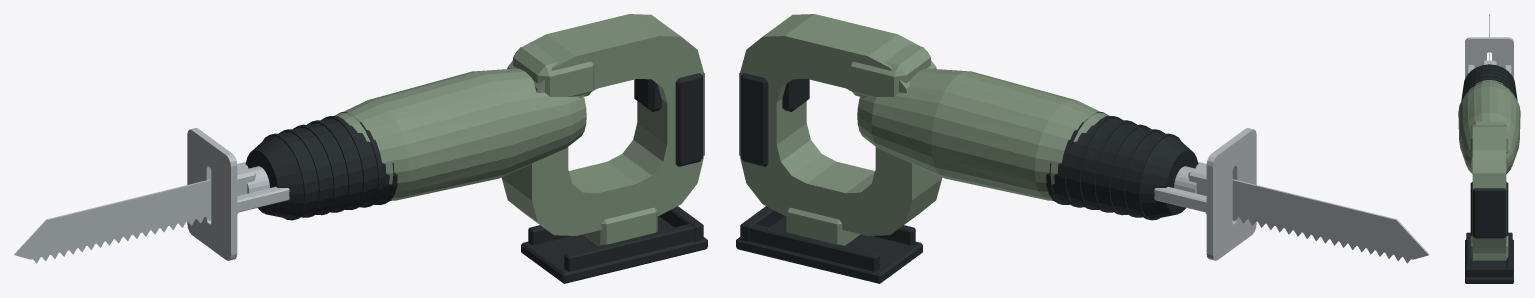
Rendered from full.fbx.
The picture shows the model from 3 angles, left to right: view 1: azimuth 30°, elevation 25°; view 2: azimuth 150°, elevation 25°; view 3: azimuth 270°, elevation 25°; orthographic projection. The views are drawn at different scales.
Parts seen in each view (by area): view 1: Rear open D handle, Long motor housing, Front wrapped grip, Long static axial toothed blade, Small upright shoe with slot, Battery slide bottom plate, Rear dark hand grip, Upper rear shoulder, Battery slide rail -0.024, Battery mount neck, Shoe mounting stem -0.022, Inner trigger (+8 smaller); view 2: Rear open D handle, Long motor housing, Front wrapped grip, Long static axial toothed blade, Small upright shoe with slot, Battery slide bottom plate, Rear dark hand grip, Upper rear shoulder, Battery slide rail 0.024, Battery mount neck, Shoe mounting stem 0.022, Inner trigger (+8 smaller); view 3: Long motor housing, Rear open D handle, Rear dark hand grip, Small upright shoe with slot, Battery slide bottom plate, Battery slide rear stop, Front wrapped grip, Battery mount neck, Upper rear shoulder, Battery slide rail -0.024, Battery slide rail 0.024, Front grip rib 3 (+6 smaller).
Boxes of the visible parts, box(x1,y1,x2,y2) form: Rear open D handle: box(501, 14, 703, 235); Long motor housing: box(335, 68, 586, 200); Front wrapped grip: box(245, 115, 391, 218); Long static axial toothed blade: box(14, 167, 260, 263); Small upright shoe with slot: box(187, 128, 237, 260); Battery slide bottom plate: box(521, 216, 707, 283); Rear dark hand grip: box(675, 72, 704, 166); Upper rear shoulder: box(513, 44, 594, 96); Battery slide rail -0.024: box(564, 223, 694, 271); Battery mount neck: box(583, 207, 657, 245); Shoe mounting stem -0.022: box(237, 186, 289, 212); Inner trigger: box(634, 79, 661, 111); Rear open D handle: box(740, 14, 942, 235); Long motor housing: box(857, 68, 1108, 200); Front wrapped grip: box(1052, 115, 1198, 218); Long static axial toothed blade: box(1183, 167, 1429, 263); Small upright shoe with slot: box(1206, 128, 1256, 260); Battery slide bottom plate: box(736, 216, 922, 283); Rear dark hand grip: box(739, 72, 768, 166); Upper rear shoulder: box(849, 44, 930, 96); Battery slide rail 0.024: box(749, 223, 879, 271); Battery mount neck: box(786, 207, 860, 245); Shoe mounting stem 0.022: box(1154, 186, 1206, 212); Inner trigger: box(782, 79, 809, 111); Long motor housing: box(1458, 80, 1520, 174); Rear open D handle: box(1472, 124, 1506, 253); Rear dark hand grip: box(1470, 182, 1508, 238); Small upright shoe with slot: box(1465, 37, 1513, 78); Battery slide bottom plate: box(1465, 239, 1513, 283); Battery slide rear stop: box(1466, 266, 1512, 277); Front wrapped grip: box(1465, 64, 1513, 92); Battery mount neck: box(1470, 235, 1508, 260); Upper rear shoulder: box(1470, 121, 1508, 153); Battery slide rail -0.024: box(1466, 232, 1472, 266); Battery slide rail 0.024: box(1506, 232, 1512, 266); Front grip rib 3: box(1462, 74, 1516, 95).
Size of the model in its own units: 52.05 by 16.1 by 7.4.
